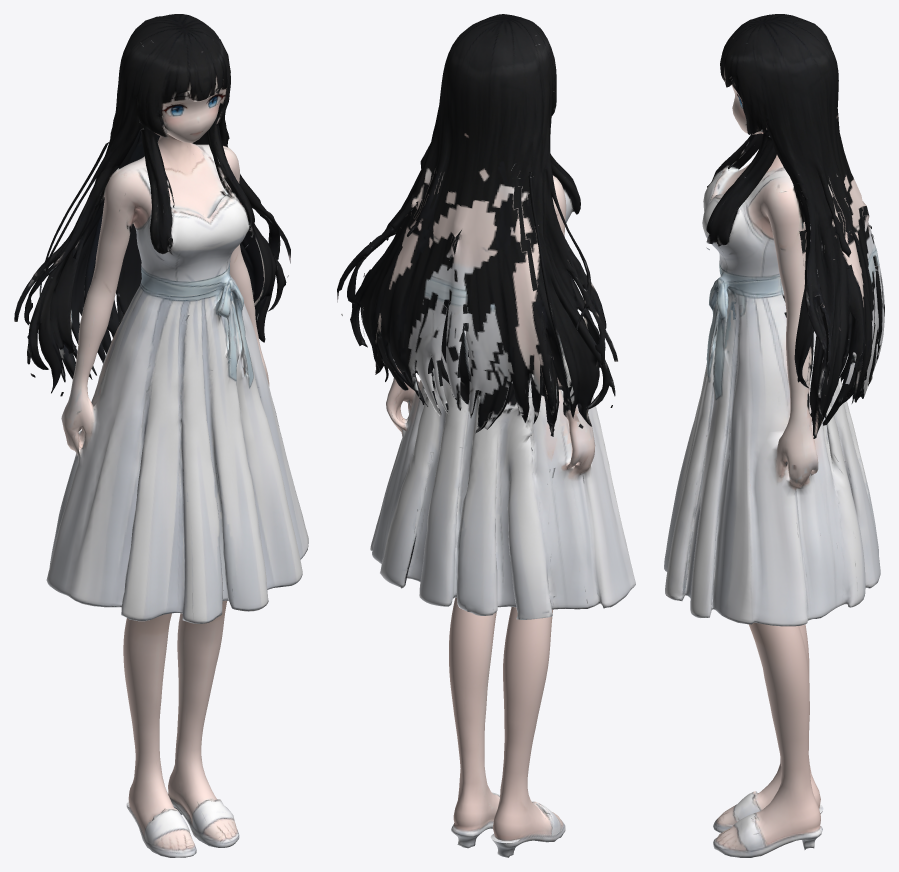
File: Yu_Nian_An_Meshy.glb
The picture shows the model from 3 angles, left to right: view 1: azimuth 30°, elevation 25°; view 2: azimuth 150°, elevation 25°; view 3: azimuth 270°, elevation 25°; orthographic projection.
Visible parts, largest first — view 1: mesh_node; view 2: mesh_node; view 3: mesh_node.
Boxes of the visible parts, bbox=[...] form: mesh_node: bbox=[14, 14, 308, 857]; mesh_node: bbox=[337, 14, 635, 857]; mesh_node: bbox=[664, 14, 884, 857].
Bounding box in the file's own units: 0.6817 × 1.9 × 0.4652.
Materials: 1 (1 with a texture image).
